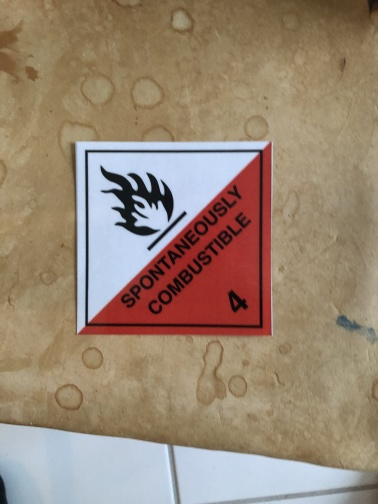SpontaneouslyCombustible: (76, 141, 272, 336)
